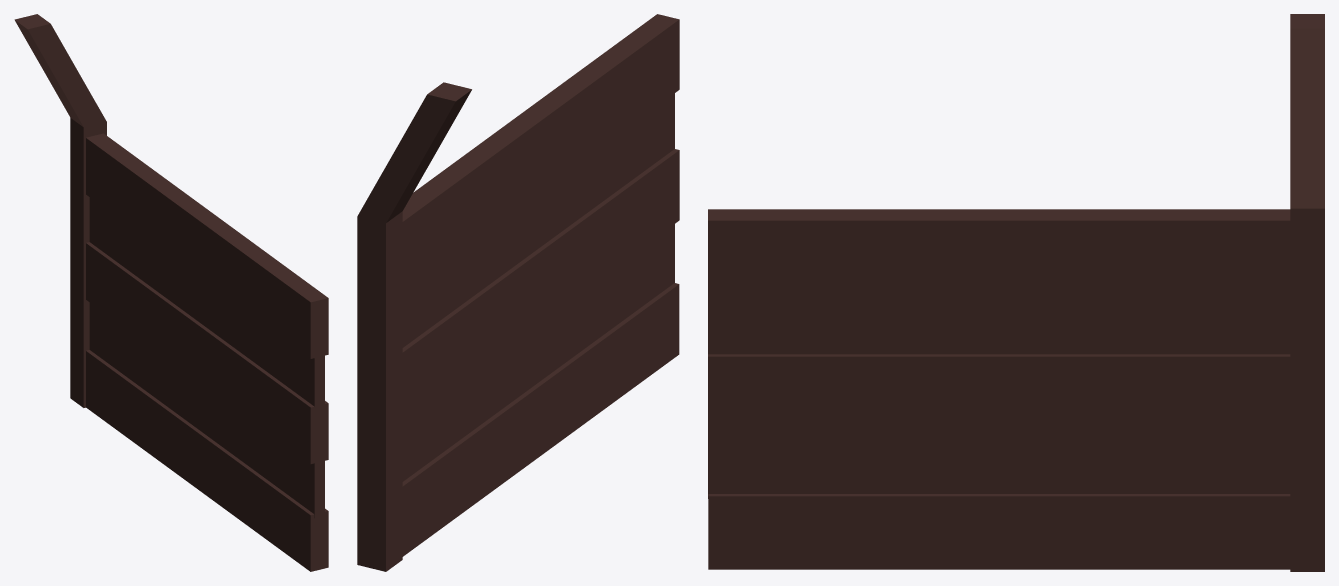
The model's file is WallL.glb.
3 views of the same model, side by side, from view 1: azimuth 30°, elevation 25°; view 2: azimuth 150°, elevation 25°; view 3: azimuth 270°, elevation 25° (orthographic). The views are drawn at different scales.
Visible parts, largest first — view 1: WallLeft; view 2: WallLeft; view 3: WallLeft.
Part boxes in pixels (x1,y1,x2,y2): WallLeft: (14, 14, 328, 571); WallLeft: (357, 14, 679, 571); WallLeft: (708, 14, 1324, 571).
Size of the model in its own units: 2.93 by 13.86 by 15.24.
